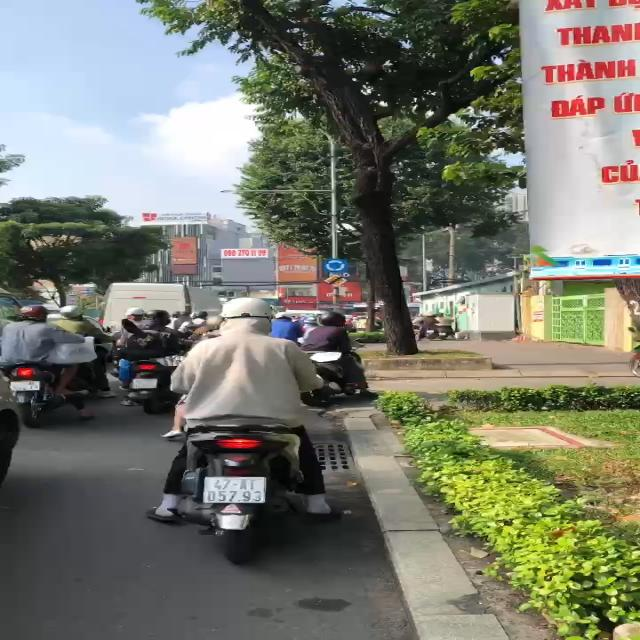Bien bao noi giao nhau chay theo vong xuyen: (322, 257, 351, 273)
